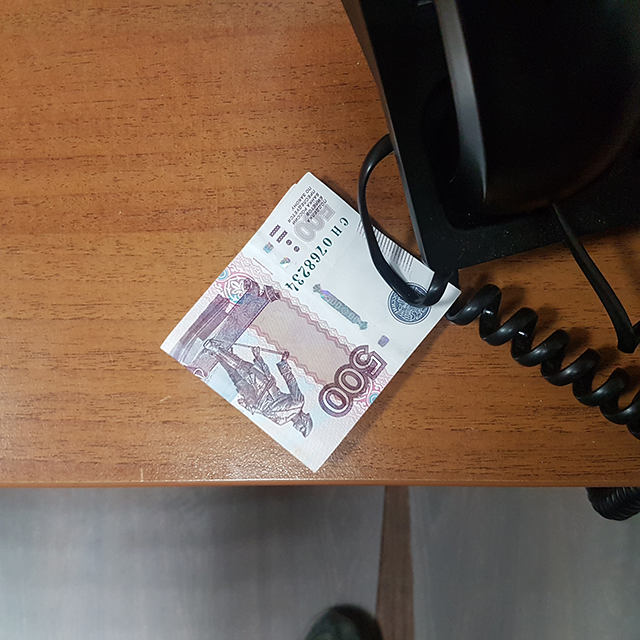banknotes: (157, 172, 462, 473)
